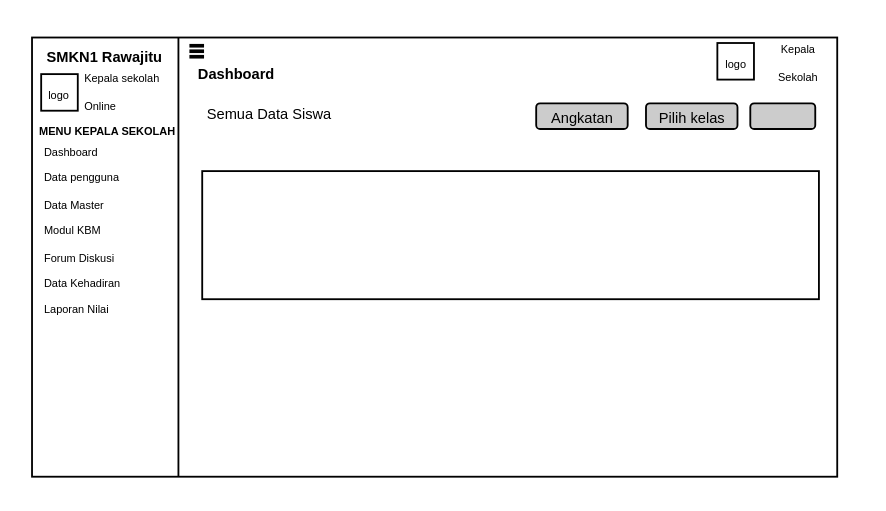
This 886x511 diagram has some shape labels left out. Each missing label, with the centre of its shape:
Lihat: [781,115]
No. NIPD NISN Nama Siswa Angkatan Kelas Action: [509,234]
